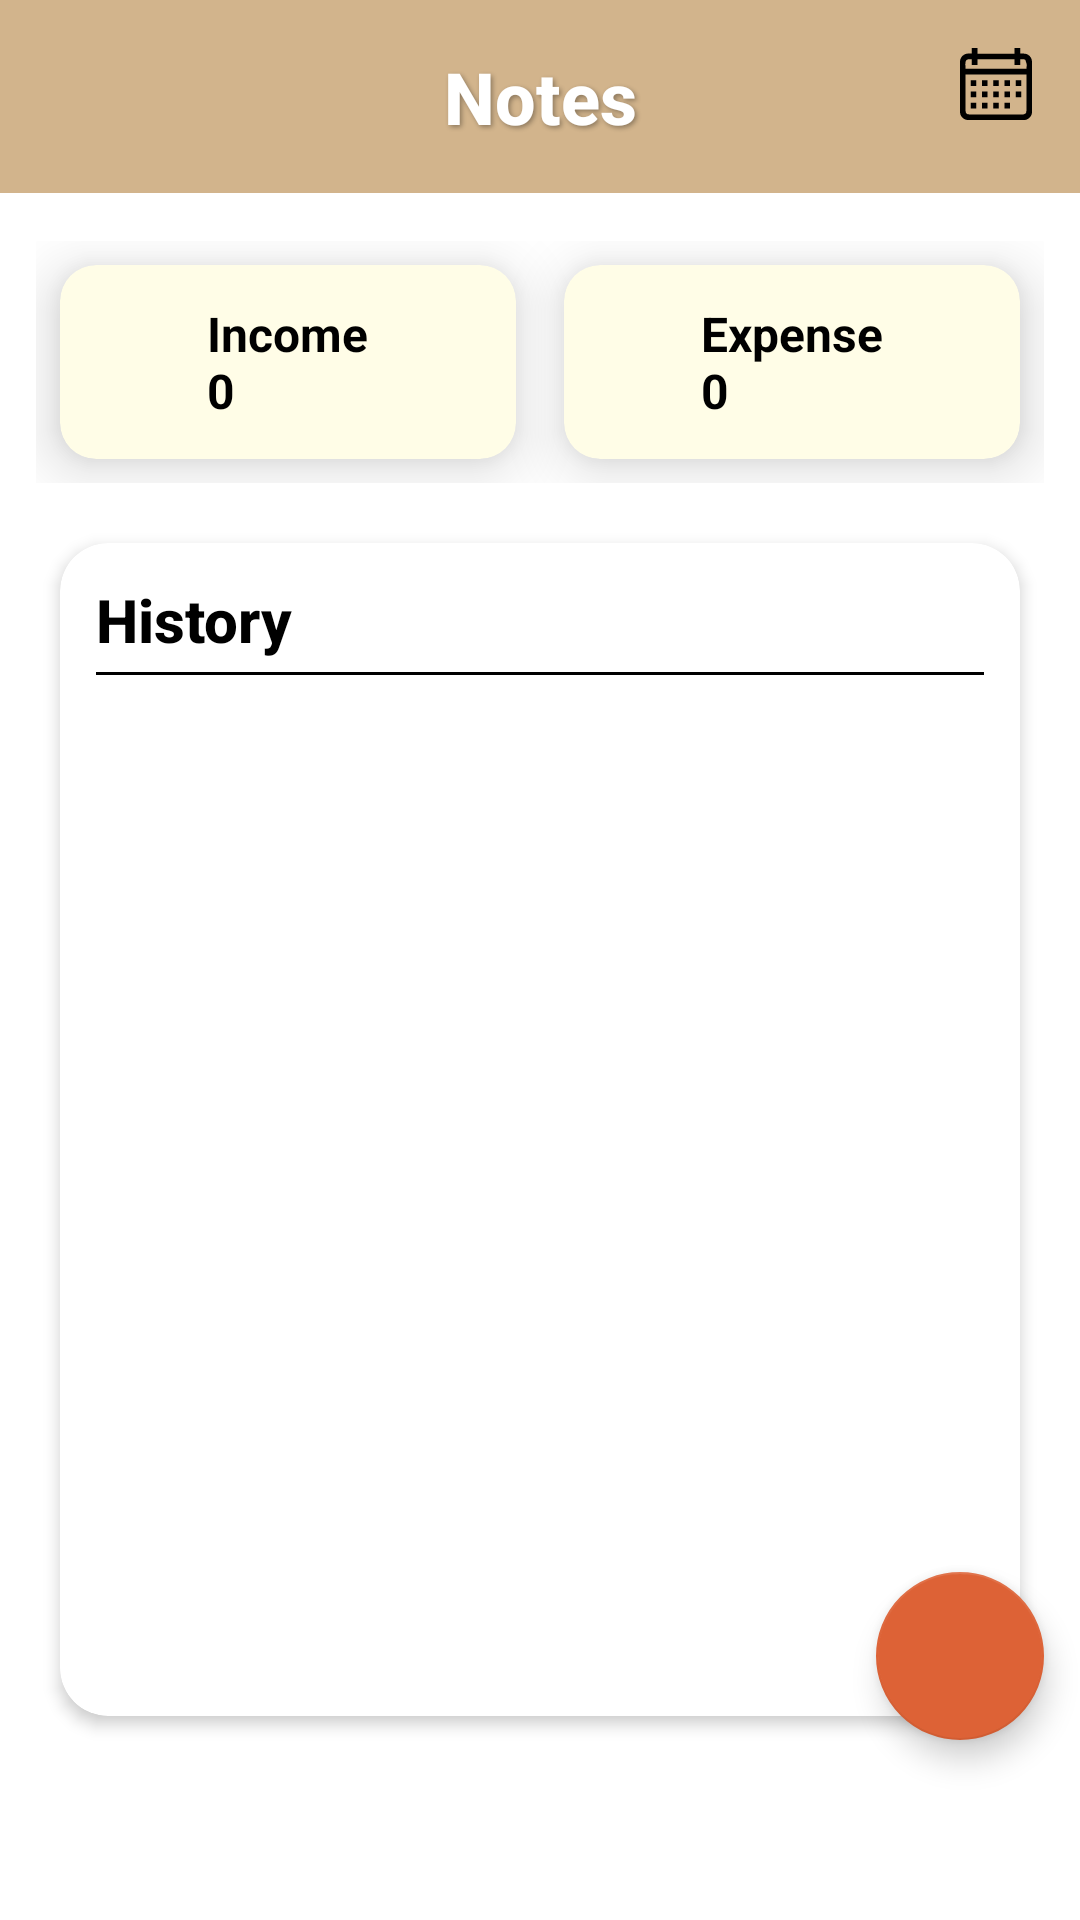

Where to tap for icons on this 1080 x 1920 app screen, as [x,y]:
Calendar: [996,84]
